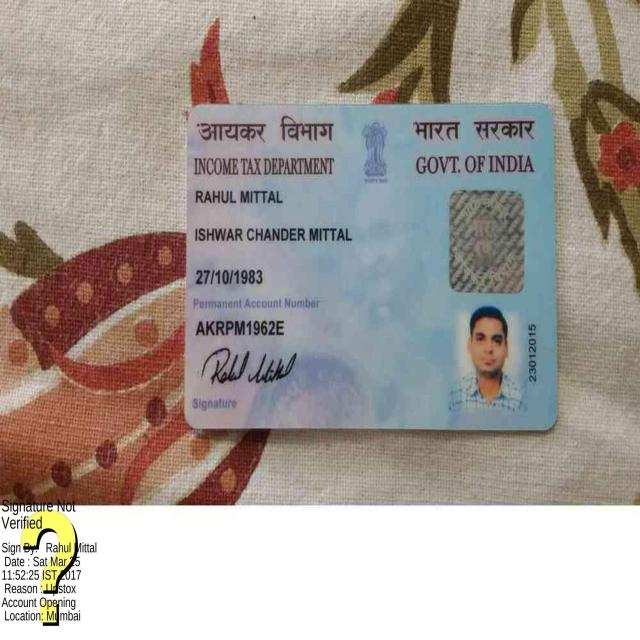pan_card: (189, 108, 551, 424)
